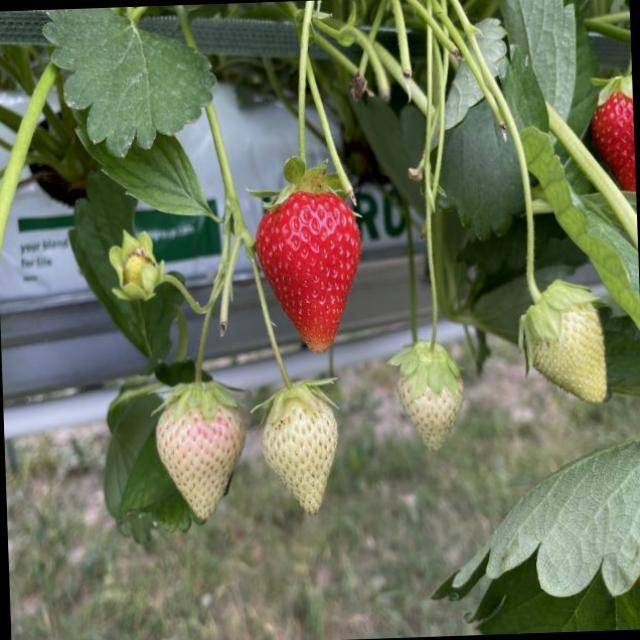stem: (462, 38, 594, 369), (388, 16, 464, 392), (159, 104, 240, 417), (263, 0, 340, 206), (252, 260, 334, 419)
strawberryNR: (156, 406, 245, 521), (260, 399, 335, 511), (532, 304, 606, 402), (399, 376, 462, 449)
strawberryR: (259, 193, 359, 351), (592, 91, 634, 191)
